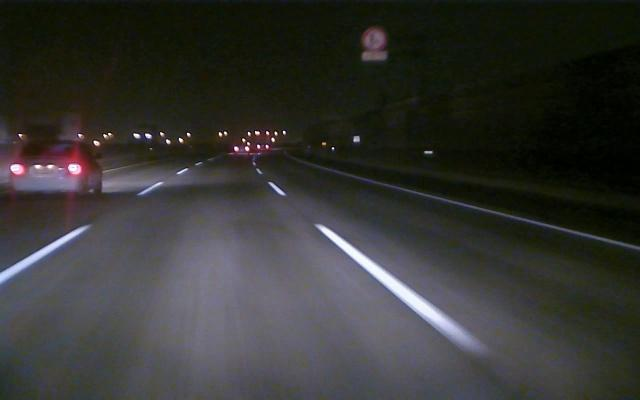lane: (270, 182, 497, 361), (337, 171, 639, 251), (1, 185, 159, 284)
